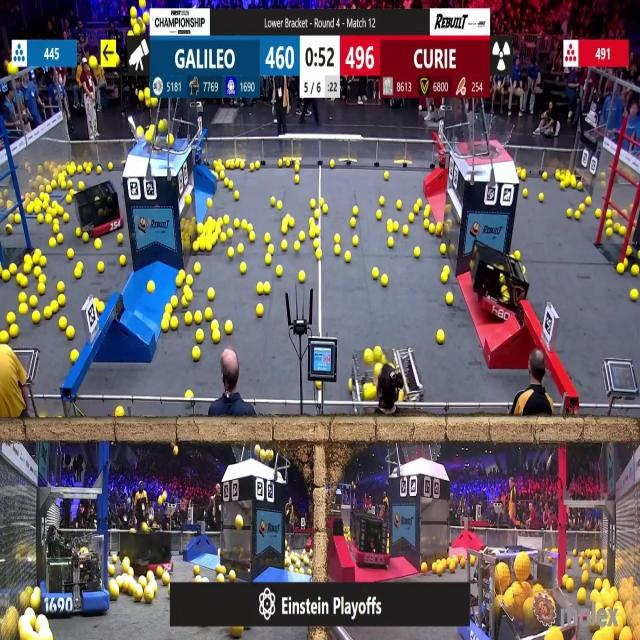ball_airborne: (267, 450, 275, 463), (91, 58, 99, 70), (160, 119, 167, 130), (131, 6, 138, 17), (254, 446, 260, 458), (150, 98, 157, 108), (134, 26, 141, 36), (144, 90, 150, 101), (146, 132, 152, 142), (139, 0, 146, 8), (169, 136, 174, 145), (138, 128, 143, 136), (130, 30, 134, 37)
ball_ground: (31, 592, 41, 610), (134, 584, 144, 600), (233, 626, 244, 639), (144, 590, 154, 604), (577, 589, 585, 605), (109, 586, 118, 600), (16, 275, 26, 287), (191, 347, 199, 361), (224, 320, 232, 334), (184, 312, 192, 326), (566, 577, 574, 591), (364, 349, 372, 363), (0, 332, 9, 344), (9, 324, 17, 337), (163, 319, 171, 332), (446, 292, 454, 304), (60, 318, 68, 330), (630, 289, 638, 301), (33, 312, 41, 324), (18, 304, 26, 316), (438, 332, 446, 344), (183, 290, 191, 302), (582, 572, 590, 584), (7, 63, 15, 75), (255, 305, 262, 318), (194, 312, 201, 325), (7, 313, 15, 324), (30, 295, 38, 306), (212, 333, 220, 344), (171, 318, 178, 330), (59, 281, 66, 293), (71, 350, 78, 362), (172, 295, 179, 307), (67, 326, 74, 338), (632, 266, 639, 278), (164, 572, 171, 584), (205, 309, 212, 321), (371, 268, 378, 280), (195, 332, 202, 344), (435, 222, 442, 234), (255, 282, 262, 294), (33, 252, 40, 264), (121, 560, 128, 572), (618, 265, 626, 275), (442, 274, 450, 284), (115, 409, 123, 419), (148, 281, 154, 294), (59, 294, 66, 305), (185, 275, 192, 286), (98, 303, 105, 314), (307, 229, 314, 240), (50, 302, 57, 313), (230, 570, 237, 581), (108, 564, 115, 575), (298, 272, 304, 284), (68, 248, 74, 260), (208, 288, 214, 300), (277, 266, 283, 278), (382, 275, 388, 287), (265, 282, 271, 294), (44, 308, 50, 320), (168, 302, 174, 314), (314, 224, 320, 236), (30, 617, 36, 629), (18, 292, 25, 302), (37, 284, 44, 294), (2, 272, 9, 282), (176, 278, 183, 288), (9, 266, 16, 276), (515, 250, 522, 260), (25, 264, 32, 274), (520, 170, 527, 180), (34, 268, 41, 278), (591, 591, 598, 601), (99, 263, 105, 274), (75, 269, 81, 280), (227, 247, 233, 258), (266, 234, 272, 245), (316, 249, 322, 260), (442, 244, 448, 255), (346, 251, 352, 262), (414, 247, 420, 258), (288, 217, 294, 228), (596, 577, 602, 588), (422, 563, 428, 574), (432, 563, 438, 574), (185, 390, 193, 398), (266, 255, 273, 264), (193, 566, 200, 575), (335, 246, 342, 255), (51, 223, 58, 232), (44, 214, 51, 223), (25, 254, 32, 263), (225, 161, 232, 170), (193, 265, 199, 275), (402, 224, 408, 234), (119, 255, 125, 265), (388, 238, 394, 248), (241, 264, 246, 276), (249, 233, 255, 243), (352, 237, 358, 247), (282, 241, 288, 251), (82, 234, 88, 244), (96, 240, 102, 250), (40, 256, 46, 266), (58, 235, 64, 245), (293, 242, 299, 252), (212, 320, 218, 330), (238, 244, 244, 254), (377, 210, 383, 220), (606, 229, 612, 239), (269, 245, 275, 255), (314, 209, 320, 219), (566, 208, 572, 218), (350, 218, 356, 228), (388, 222, 394, 232), (620, 225, 626, 235), (242, 219, 248, 229), (117, 235, 123, 245), (235, 218, 241, 228), (191, 242, 197, 252), (217, 564, 223, 574), (6, 224, 12, 234), (271, 198, 277, 208), (556, 171, 562, 181), (28, 205, 34, 215), (570, 176, 576, 186), (218, 574, 225, 582), (206, 244, 213, 252), (277, 202, 284, 210), (594, 632, 601, 640), (50, 208, 57, 216), (42, 202, 49, 210), (155, 568, 162, 576), (596, 209, 602, 218), (298, 233, 304, 242), (380, 198, 386, 207), (49, 239, 55, 248), (314, 240, 320, 249), (396, 201, 402, 210), (282, 224, 288, 233), (352, 207, 358, 216), (220, 234, 226, 243), (38, 214, 44, 223), (140, 575, 146, 584), (198, 223, 204, 232), (35, 205, 41, 214), (61, 180, 67, 189), (146, 571, 152, 580), (316, 381, 322, 390), (410, 213, 415, 223), (76, 229, 81, 239), (336, 235, 341, 245), (182, 300, 187, 310), (193, 575, 200, 582), (309, 218, 316, 225), (538, 192, 544, 200), (523, 188, 529, 196), (64, 214, 70, 222), (322, 206, 328, 214), (78, 182, 84, 190), (574, 211, 580, 219), (566, 560, 572, 568), (165, 312, 171, 320), (129, 568, 135, 576), (414, 206, 420, 214), (78, 167, 84, 175), (627, 247, 632, 256), (227, 230, 232, 239), (311, 200, 316, 209), (14, 214, 19, 223), (606, 210, 611, 219), (186, 197, 191, 206), (294, 165, 299, 174), (250, 164, 255, 173), (215, 224, 220, 233), (293, 176, 299, 183), (39, 276, 45, 283), (541, 173, 547, 180), (66, 195, 72, 202), (179, 271, 185, 278), (217, 218, 223, 225), (208, 217, 214, 224), (223, 216, 228, 224), (445, 267, 450, 275), (587, 198, 592, 206), (108, 164, 113, 172), (393, 222, 398, 230), (424, 210, 429, 218), (560, 182, 565, 190), (329, 162, 334, 170), (319, 199, 324, 207), (576, 182, 581, 190), (219, 172, 224, 180), (164, 303, 169, 311), (203, 574, 208, 582), (349, 380, 353, 390), (236, 190, 240, 199), (228, 184, 232, 193), (248, 222, 252, 231), (60, 207, 64, 216), (279, 158, 283, 167), (51, 202, 57, 208), (88, 169, 94, 175), (68, 183, 72, 192), (579, 205, 584, 212), (606, 220, 611, 227), (417, 200, 422, 207), (240, 163, 245, 170), (584, 563, 589, 570), (208, 200, 212, 208), (98, 167, 102, 175), (384, 172, 388, 180), (424, 220, 428, 228), (223, 179, 227, 187), (255, 163, 259, 171), (578, 560, 582, 568), (624, 258, 629, 264), (308, 568, 312, 575), (572, 551, 576, 557)
goal: (459, 118, 516, 158)
robot_blue: (465, 552, 570, 640), (60, 540, 105, 617)
robot_red: (472, 255, 528, 322), (349, 493, 390, 572), (80, 181, 124, 237), (128, 528, 172, 574)
